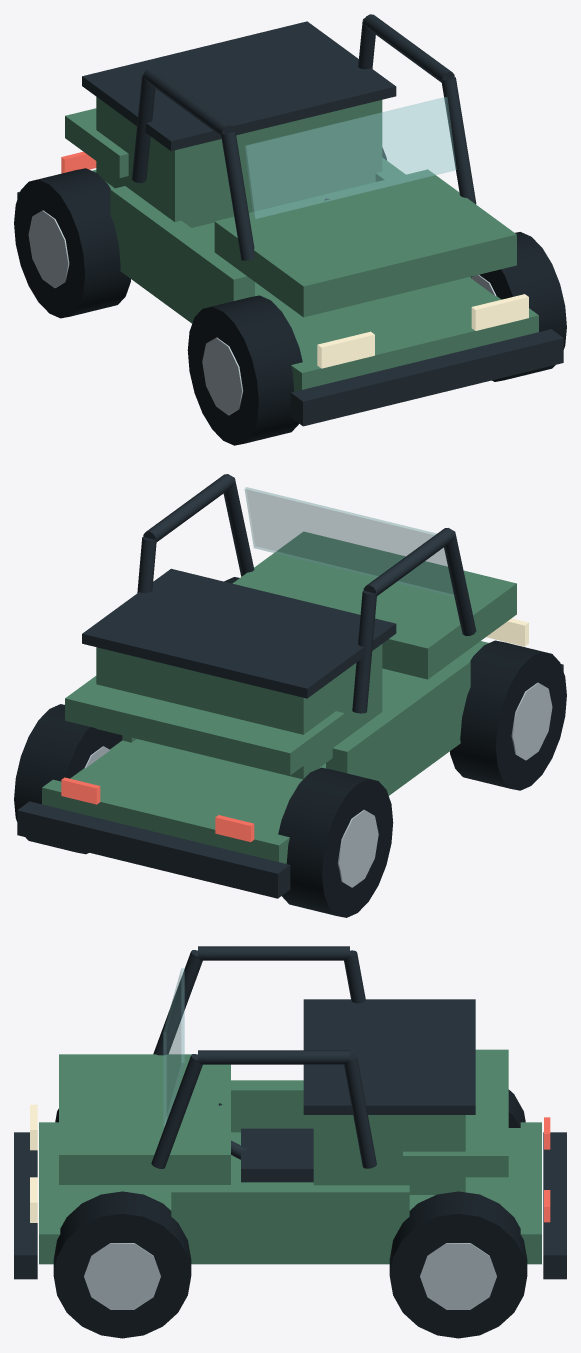
File: trail-rover.glb
3 renders of one model, top to bottom at view 1: azimuth 30°, elevation 25°; view 2: azimuth 150°, elevation 25°; view 3: azimuth 270°, elevation 25°, orthographic. The views are drawn at different scales.
Visible parts, largest first — view 1: trail-rover, wheel.1.spin, wheel.0.spin, wheel.3.spin; view 2: trail-rover, wheel.0.spin, wheel.1.spin, wheel.2.spin; view 3: trail-rover, wheel.2.spin, wheel.3.spin.
Part boxes in pixels (x1,y1,x2,y2): trail-rover: (17, 14, 563, 426); wheel.1.spin: (187, 295, 302, 445); wheel.0.spin: (14, 168, 130, 318); wheel.3.spin: (470, 232, 566, 381); trail-rover: (17, 474, 563, 898); wheel.0.spin: (278, 767, 393, 917); wheel.1.spin: (450, 640, 566, 790); wheel.2.spin: (14, 704, 122, 854); trail-rover: (14, 946, 566, 1279); wheel.2.spin: (389, 1191, 527, 1338); wheel.3.spin: (53, 1191, 191, 1338).
Size of the model in its own units: 2.62 by 2.22 by 4.18.
